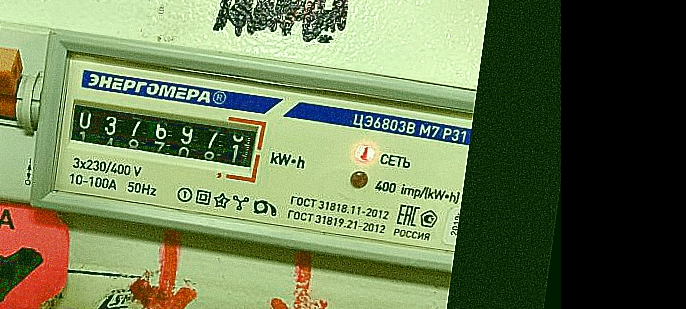0: (75, 107, 94, 130)
1: (228, 142, 242, 164)
3: (101, 112, 118, 137)
6: (153, 118, 169, 140)
7: (127, 113, 144, 139), (204, 126, 220, 150)
9: (178, 122, 194, 146)
screen: (59, 91, 269, 186)
